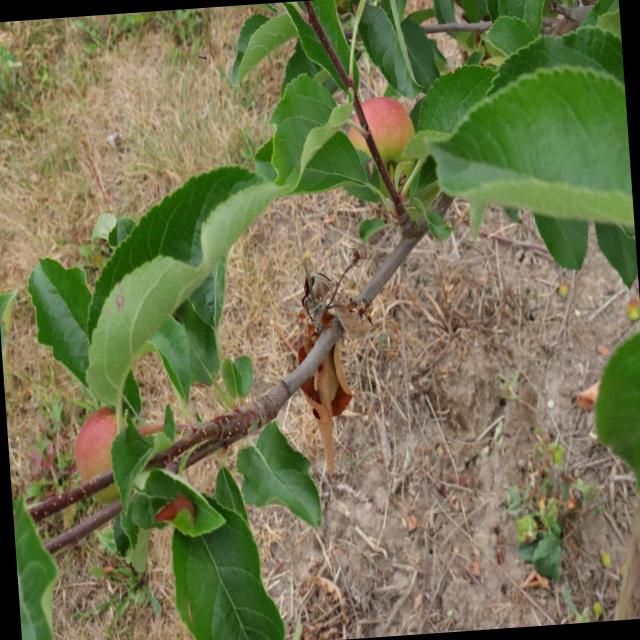-FireBlight-: (282, 322, 356, 468)
